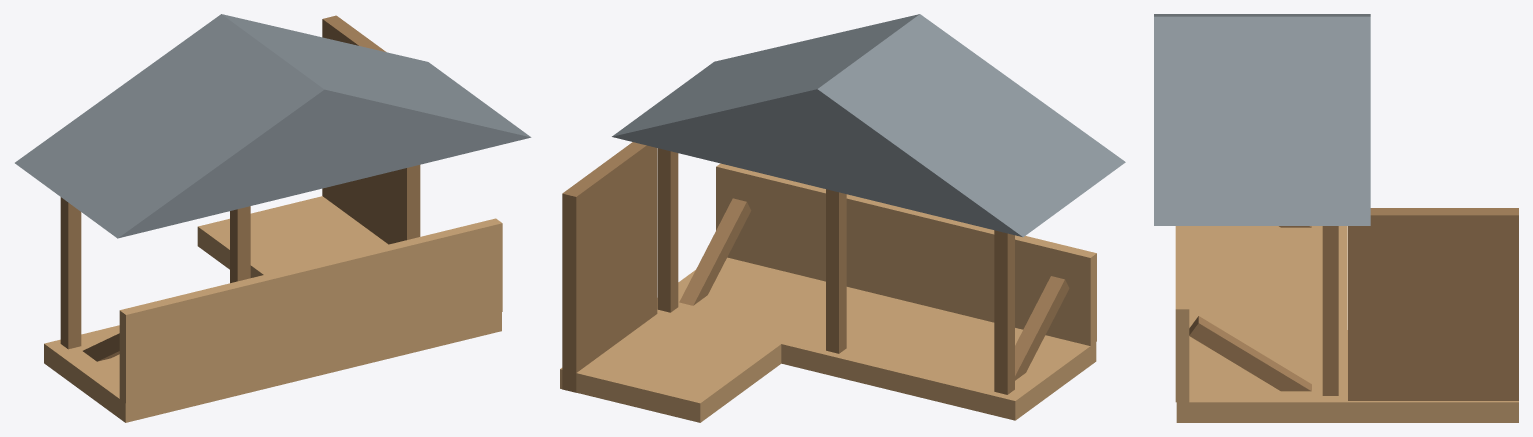
File: hoarding-gallery-corner.glb
3 views of the same model, side by side, from view 1: azimuth 30°, elevation 25°; view 2: azimuth 150°, elevation 25°; view 3: azimuth 270°, elevation 25° (orthographic). The views are drawn at different scales.
Visible parts, largest first — view 1: hoarding-gallery-corner; view 2: hoarding-gallery-corner; view 3: hoarding-gallery-corner.
Part boxes in pixels (x1=…): hoarding-gallery-corner: x1=15, y1=14, x2=531, y2=422; hoarding-gallery-corner: x1=560, y1=14, x2=1125, y2=422; hoarding-gallery-corner: x1=1154, y1=14, x2=1518, y2=422.
Size of the model in its own units: 4.4 by 3.06 by 3.2.
